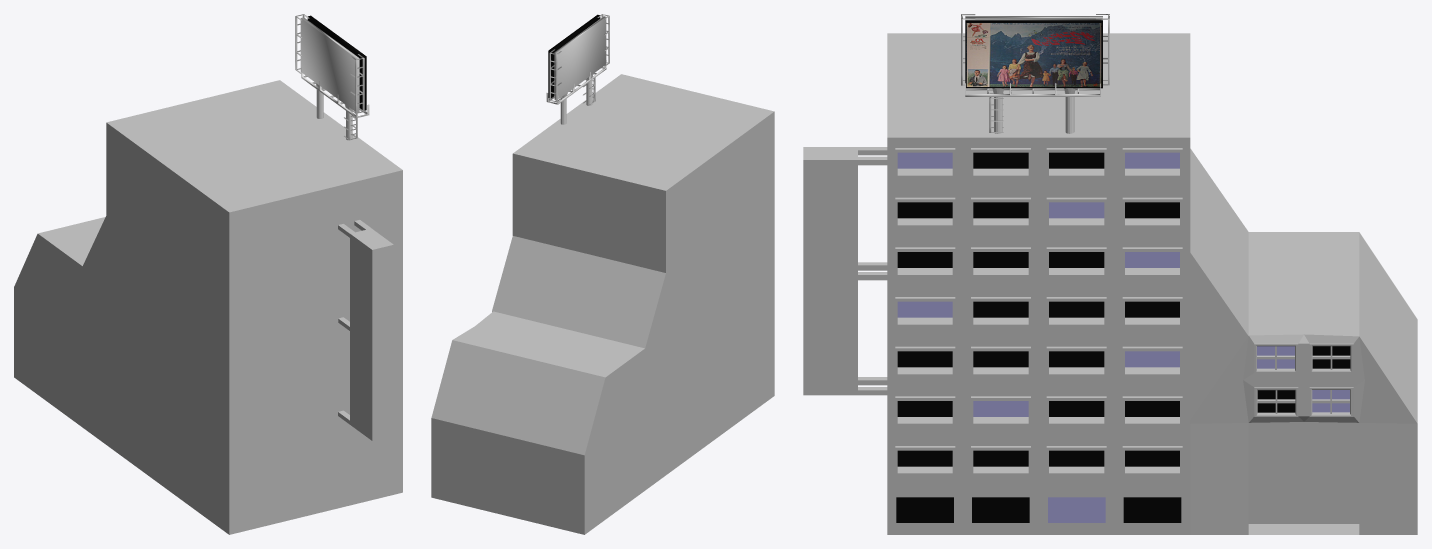
Rendered from building poops.fbx.
3 views of the same model, side by side, from view 1: azimuth 30°, elevation 25°; view 2: azimuth 150°, elevation 25°; view 3: azimuth 270°, elevation 25° (orthographic). The views are drawn at different scales.
Visible parts, largest first — view 1: Cube, Cube.002, Cube.001; view 2: Cube, Cube.001; view 3: Cube, Cube.002, Cube.001.
Part boxes in pixels (left/top/right/bottom): Cube: left=14, top=80, right=402, bottom=534; Cube.002: left=338, top=220, right=393, bottom=440; Cube.001: left=295, top=14, right=369, bottom=140; Cube: left=431, top=74, right=774, bottom=534; Cube.001: left=546, top=14, right=609, bottom=124; Cube: left=887, top=33, right=1417, bottom=534; Cube.002: left=803, top=147, right=887, bottom=395; Cube.001: left=961, top=14, right=1109, bottom=133.
Size of the model in its own units: 687 by 1543 by 1683.
